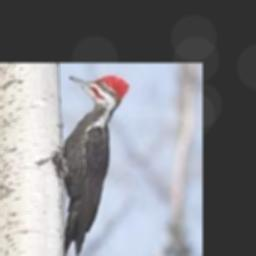Woodpecker: (55, 75, 129, 256)
